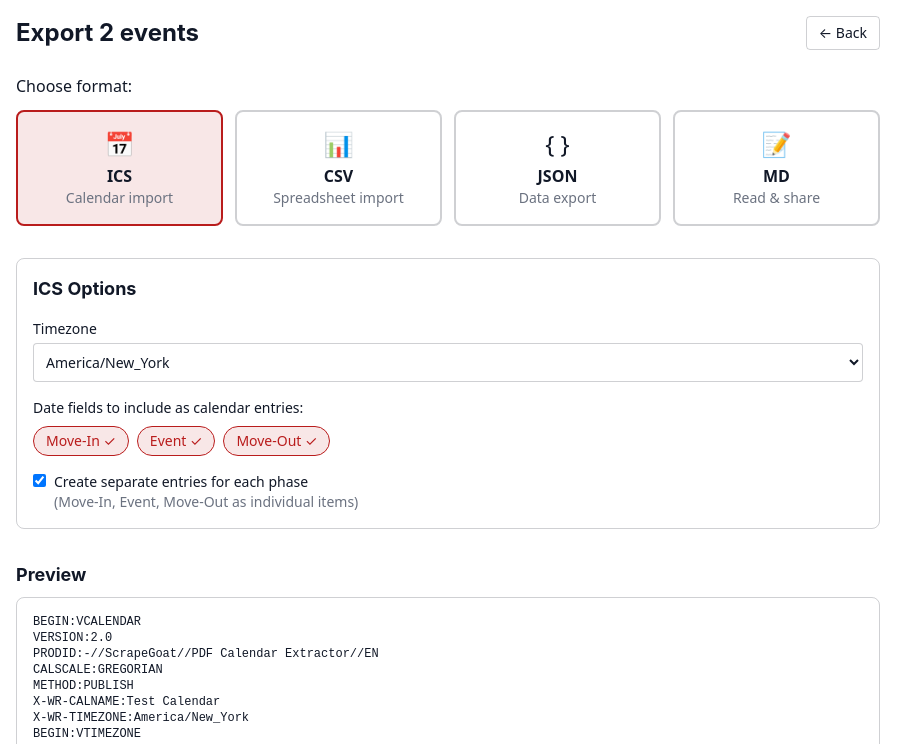
ExportPage › switches to CSV options when CSV card clicked
The width and height of the screenshot is (897, 744).
Click the text "CSV". click: (338, 176)
box: [324,165,353,187]
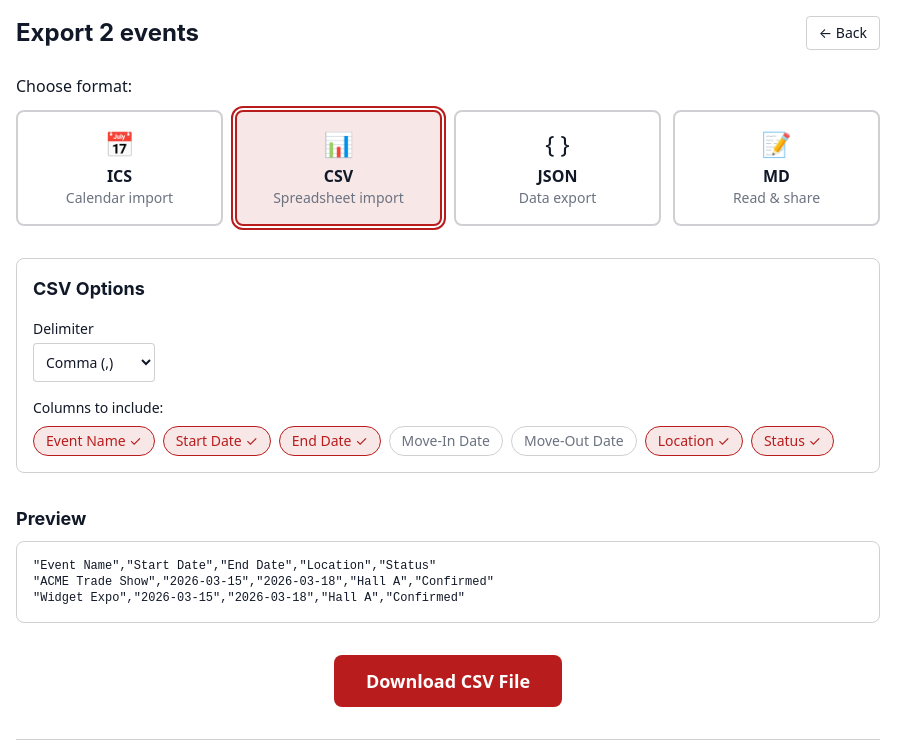
Expected: the heading "CSV Options" is shown, [33,278,145,299]
Expected: the dropdown labelled "Delimiter" is shown, [33,343,155,382]
